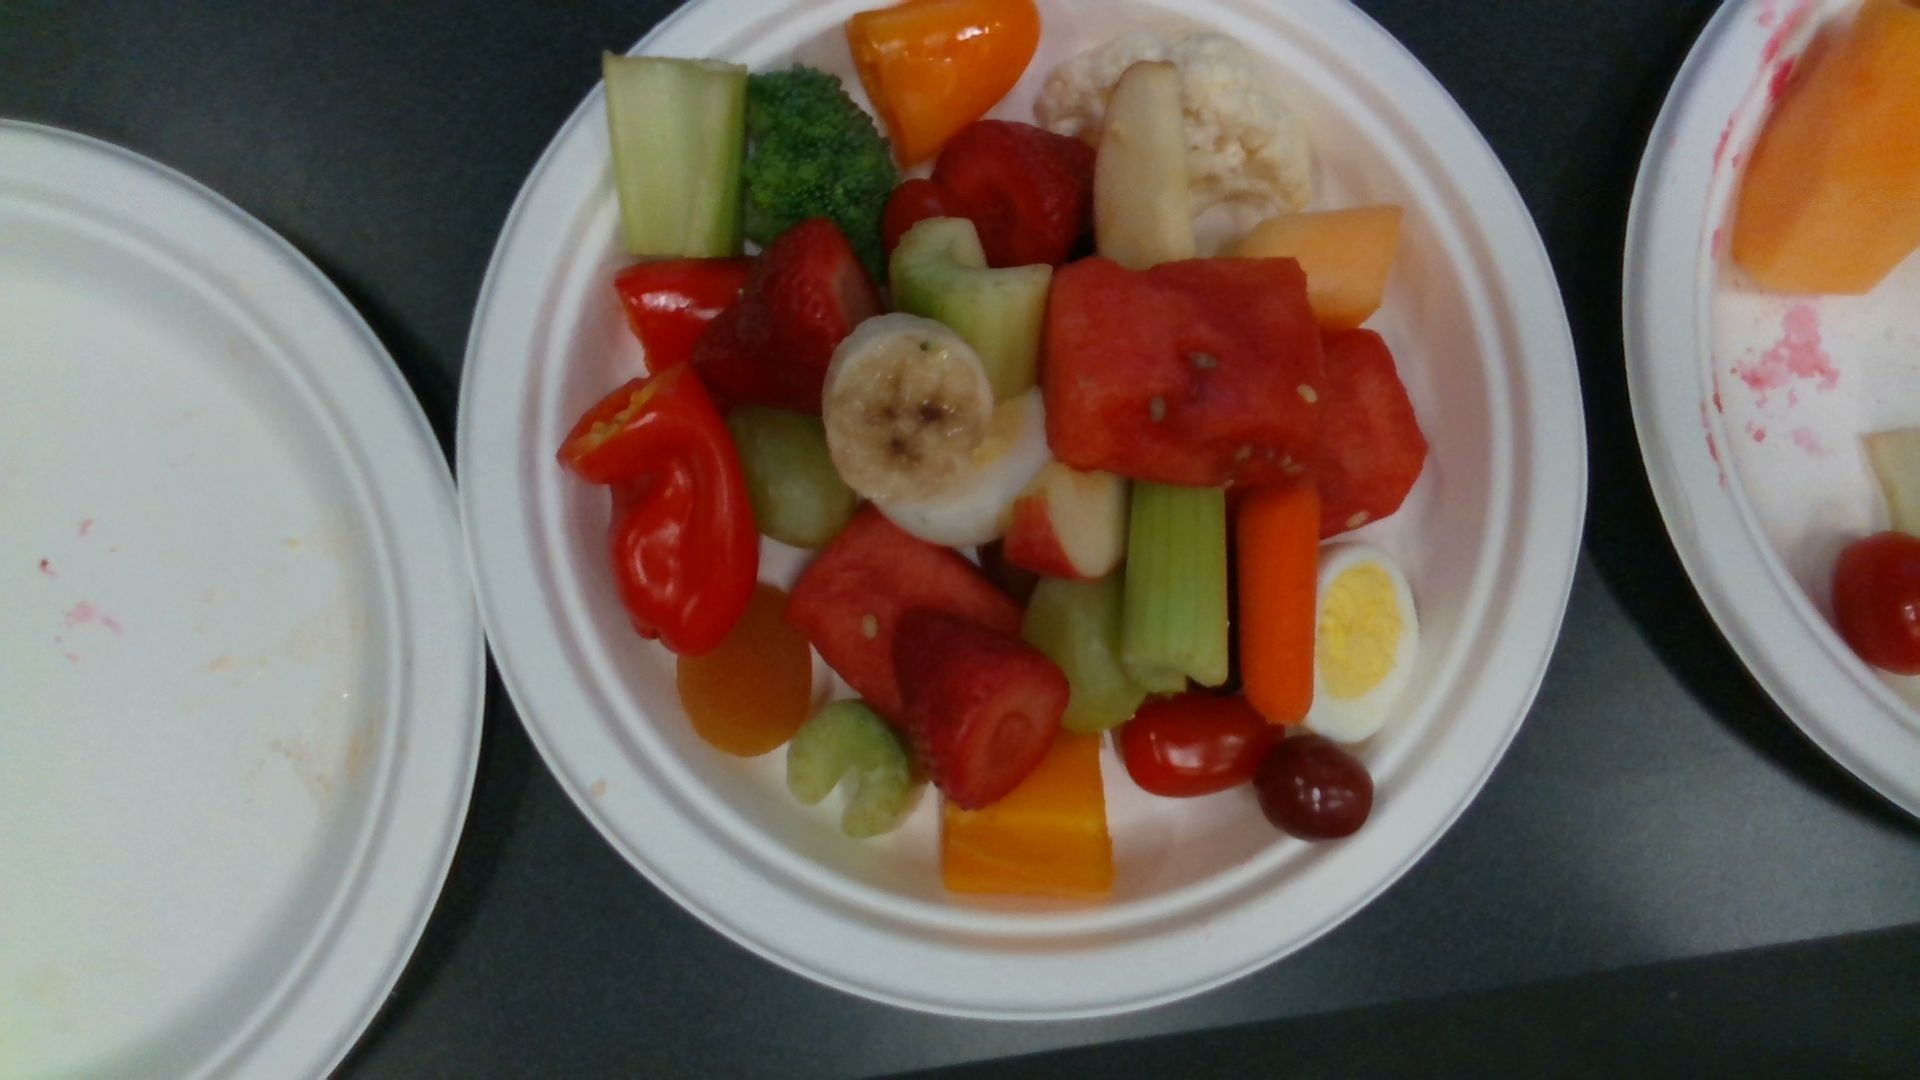apple: (1095, 65, 1192, 266), (1004, 468, 1125, 580)
apricot: (680, 589, 807, 760)
banana: (822, 316, 992, 502)
bell_pepper: (559, 368, 760, 653), (851, 1, 1044, 165), (942, 735, 1114, 901)
broccoli: (735, 71, 897, 256)
cantalope: (1218, 203, 1402, 323)
carrot: (1240, 485, 1317, 727)
cauliflower: (1033, 36, 1309, 210)
celery: (603, 47, 745, 256), (891, 218, 1047, 396), (1120, 488, 1229, 696), (789, 703, 913, 836)
cherry_tomato: (1122, 698, 1280, 798)
egg: (1309, 549, 1420, 746)
grape_purple: (1261, 741, 1374, 837)
melon: (1042, 260, 1324, 487), (785, 506, 1019, 733), (1315, 328, 1427, 535)
strawberry: (695, 223, 876, 411), (899, 608, 1069, 804)
